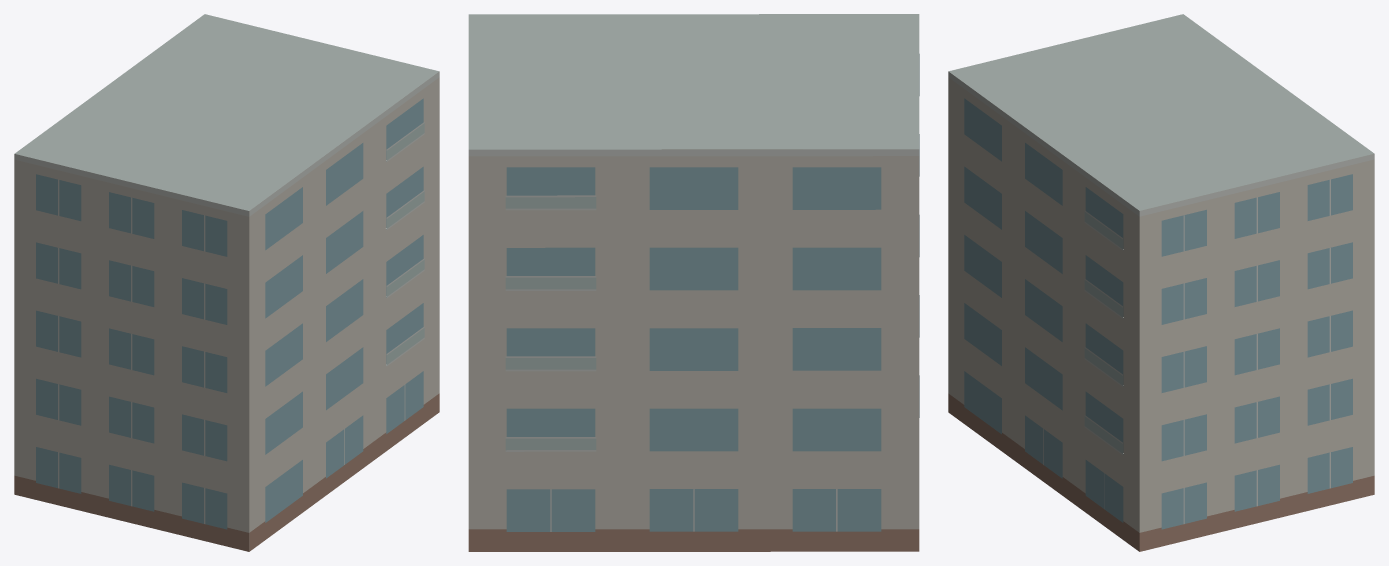
File: survey-upis-32510188.glb
3 renders of one model, left to right at view 1: azimuth 30°, elevation 25°; view 2: azimuth 150°, elevation 25°; view 3: azimuth 270°, elevation 25°, orthographic. The views are drawn at different scales.
Visible parts, largest first — view 1: survey-upis-32510188.tmp; view 2: survey-upis-32510188.tmp; view 3: survey-upis-32510188.tmp.
Part boxes in pixels (x1=…): survey-upis-32510188.tmp: x1=14, y1=14, x2=439, y2=551; survey-upis-32510188.tmp: x1=468, y1=14, x2=919, y2=551; survey-upis-32510188.tmp: x1=948, y1=14, x2=1374, y2=551.
Bounding box in the file's own units: 17.84 × 14.4 × 16.33.
